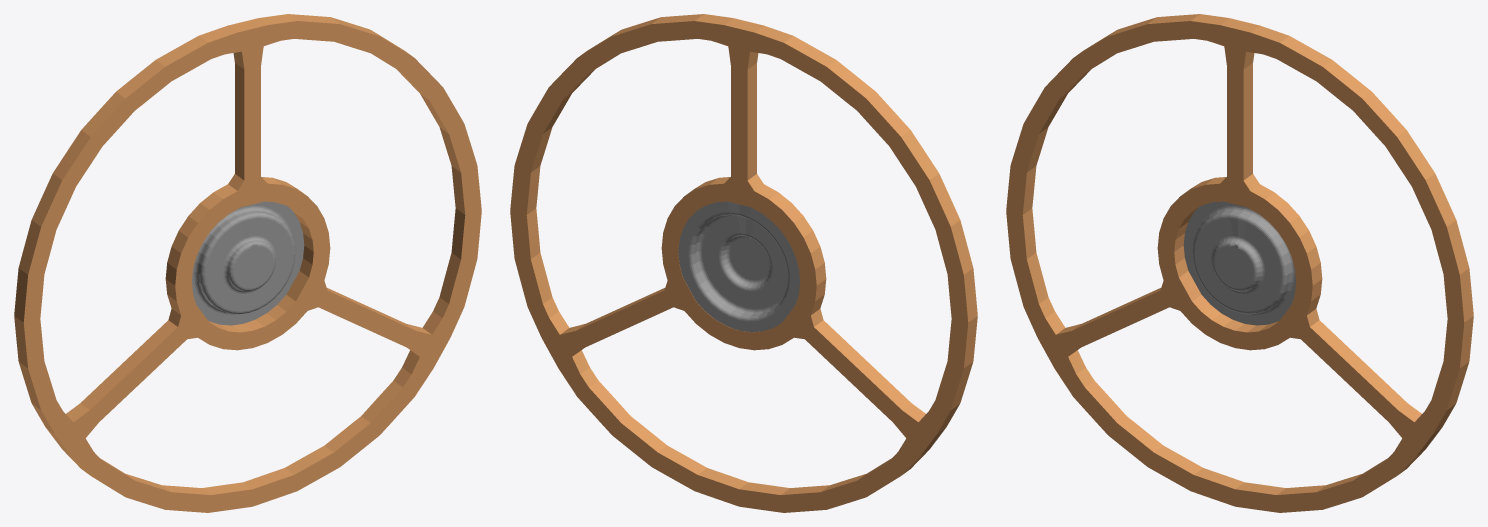
The model's file is spoked_gear.glb.
The picture shows the model from 3 angles, left to right: view 1: azimuth 30°, elevation 25°; view 2: azimuth 150°, elevation 25°; view 3: azimuth 330°, elevation 25°; orthographic projection.
Parts seen in each view (by area): view 1: Outer, Inner; view 2: Outer, Inner; view 3: Outer, Inner.
Boxes of the visible parts, x1,y1,x2,y2 form: Outer: (14,14,481,512); Inner: (192,201,304,325); Outer: (510,14,977,512); Inner: (678,201,799,332); Outer: (1006,14,1473,512); Inner: (1183,201,1295,325).
Bounding box in the file's own units: 2.76 × 2.75 × 0.1154.
